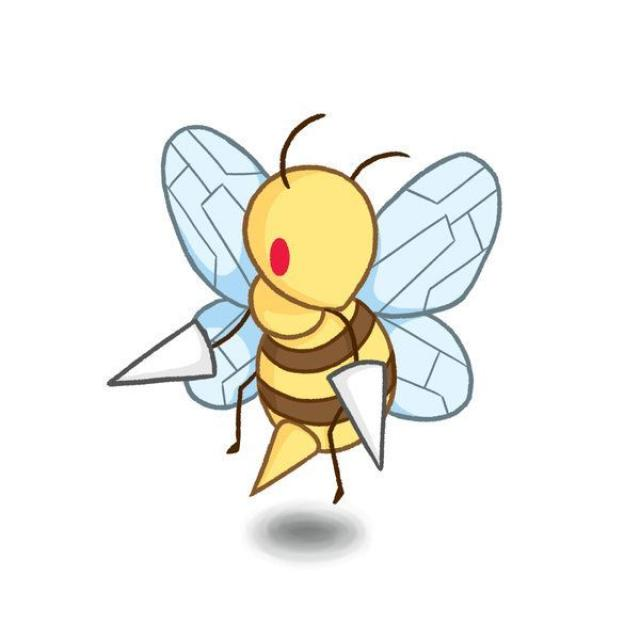Beedrill: (160, 115, 505, 471)
